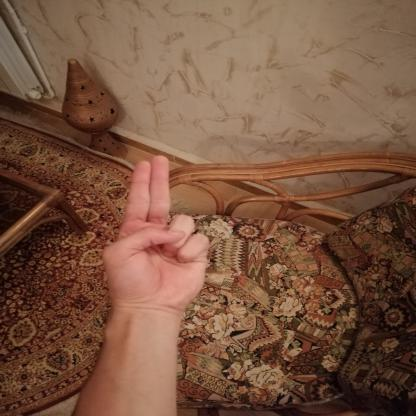TA: (90, 144, 224, 322)
